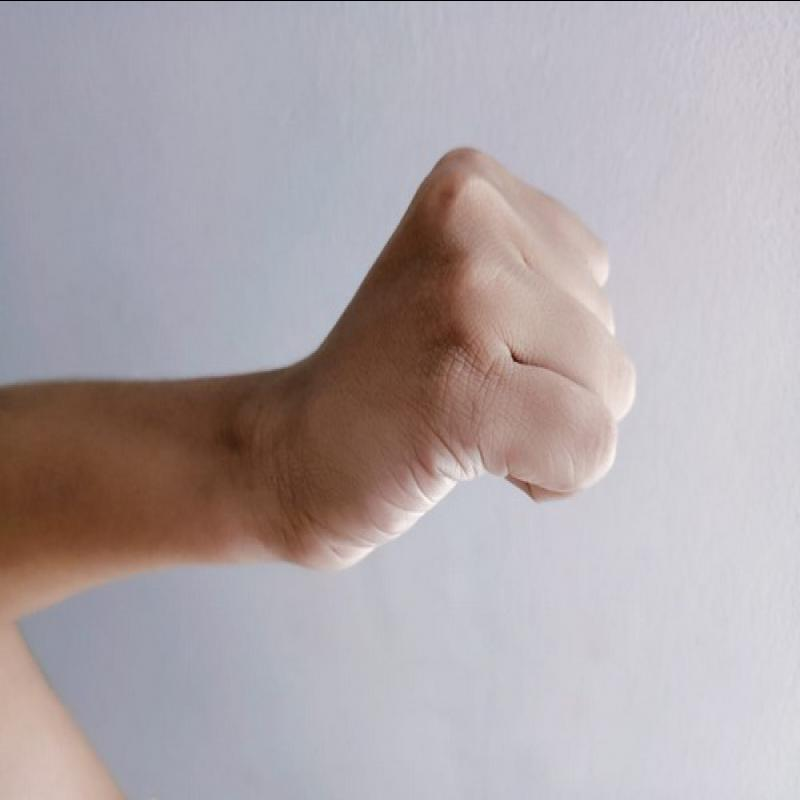Mushti: (228, 130, 648, 592)
